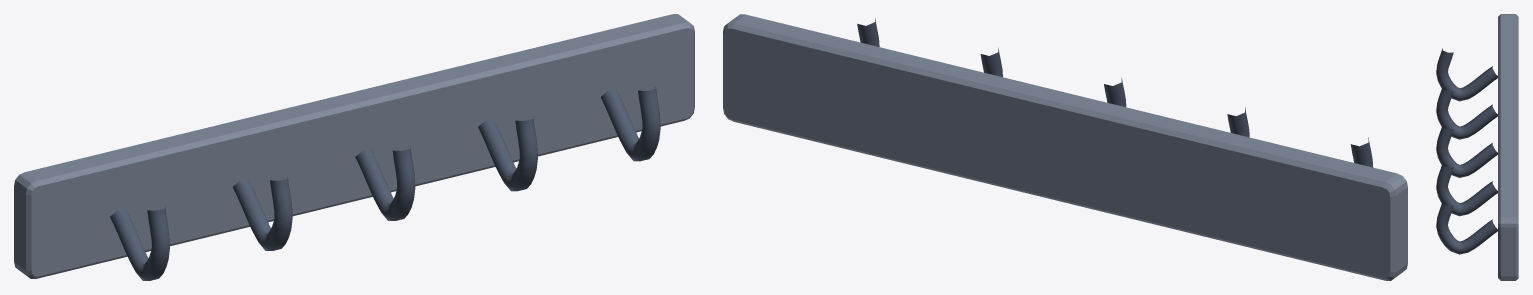
File: wall-coat-hooks-lite.glb
3 renders of one model, left to right at view 1: azimuth 30°, elevation 25°; view 2: azimuth 150°, elevation 25°; view 3: azimuth 270°, elevation 25°, orthographic. The views are drawn at different scales.
Visible parts, largest first — view 1: body, dark; view 2: body, dark; view 3: dark, body.
Part boxes in pixels (left/top/right/bottom): body: left=14, top=14, right=694, bottom=278; dark: left=110, top=87, right=660, bottom=280; body: left=723, top=14, right=1407, bottom=280; dark: left=857, top=18, right=1373, bottom=167; dark: left=1436, top=48, right=1497, bottom=254; body: left=1498, top=14, right=1518, bottom=280.
Bounding box in the file's own units: 0.6 × 0.084 × 0.0999.
